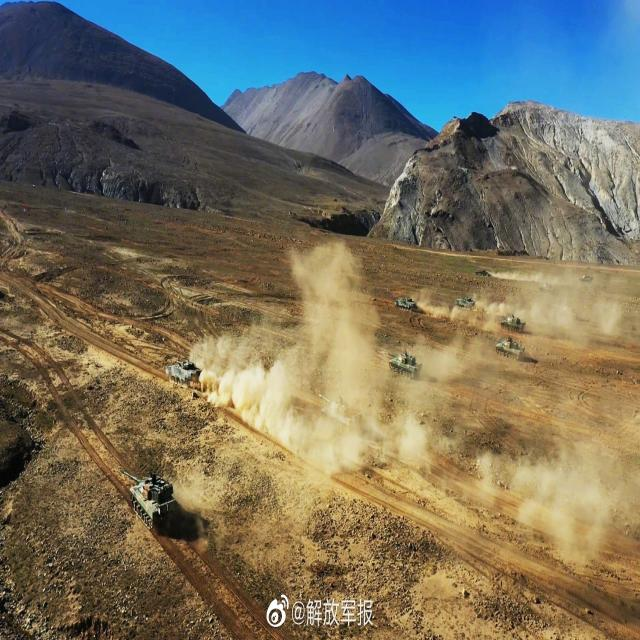tank: (129, 472, 177, 529), (386, 345, 424, 387), (164, 357, 202, 391), (497, 336, 526, 365), (454, 294, 478, 312), (395, 296, 416, 312)
